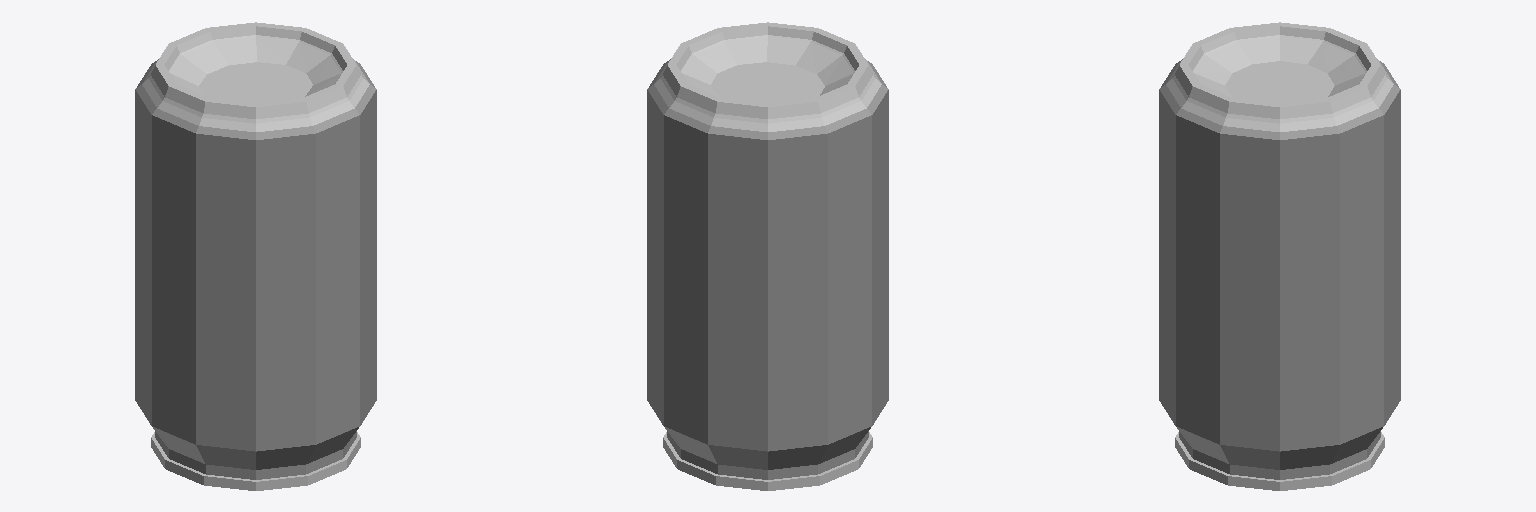
3 views of the same model, side by side, from view 1: azimuth 30°, elevation 25°; view 2: azimuth 150°, elevation 25°; view 3: azimuth 270°, elevation 25° (orthographic).
Visible parts, largest first — view 1: Cilindro1_Cilindro1_Mat_3, Cilindro1_Cilindro1_None, Cilindro2_Cilindro2_None; view 2: Cilindro1_Cilindro1_Mat_3, Cilindro1_Cilindro1_None, Cilindro2_Cilindro2_None; view 3: Cilindro1_Cilindro1_Mat_3, Cilindro1_Cilindro1_None, Cilindro2_Cilindro2_None.
Boxes of the visible parts, x1,y1,x2,y2 form: Cilindro1_Cilindro1_Mat_3: [135, 61, 376, 479]; Cilindro1_Cilindro1_None: [142, 22, 369, 131]; Cilindro2_Cilindro2_None: [151, 432, 360, 490]; Cilindro1_Cilindro1_Mat_3: [647, 61, 888, 479]; Cilindro1_Cilindro1_None: [654, 22, 881, 131]; Cilindro2_Cilindro2_None: [663, 432, 872, 490]; Cilindro1_Cilindro1_Mat_3: [1159, 61, 1400, 479]; Cilindro1_Cilindro1_None: [1166, 22, 1393, 131]; Cilindro2_Cilindro2_None: [1175, 432, 1384, 490].
Size of the model in its own units: 5.5 by 9.61 by 5.5.
Materials: 2 (1 with a texture image).